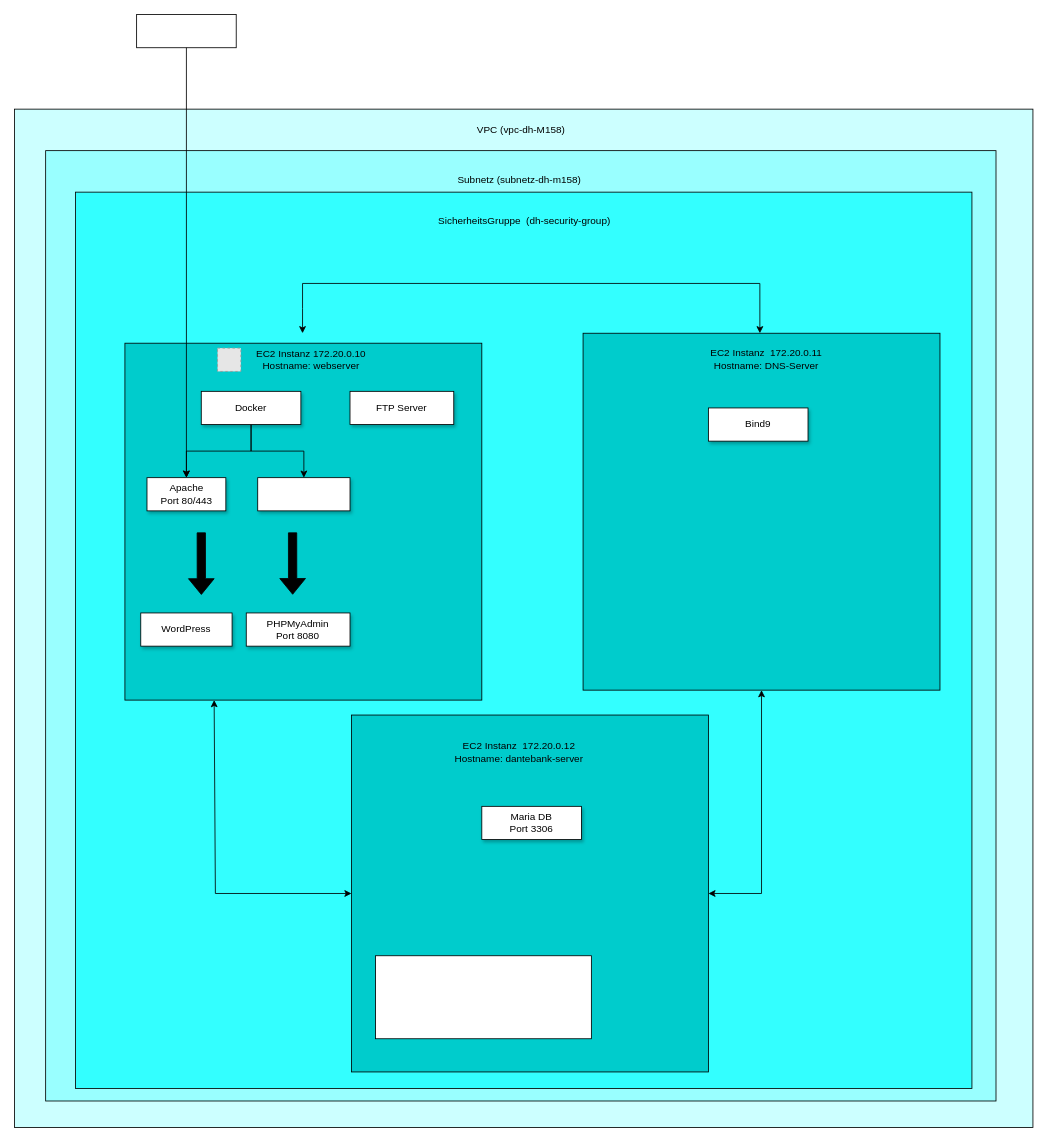
Some shapes in this 1047 by 1142 pixel diagram are drawn without their labels. Grey dashed boxes stand in for pictures. Here are the shapes that lost their labels. From the top down, the centre of each, then its label:
point (186, 31): Browser dh.m158.local
point (304, 495): PHP
point (483, 997): Datenbanknamen: wp-dh-projekt Benutzer: wp-user-dh Passwort: TBZ12345!
